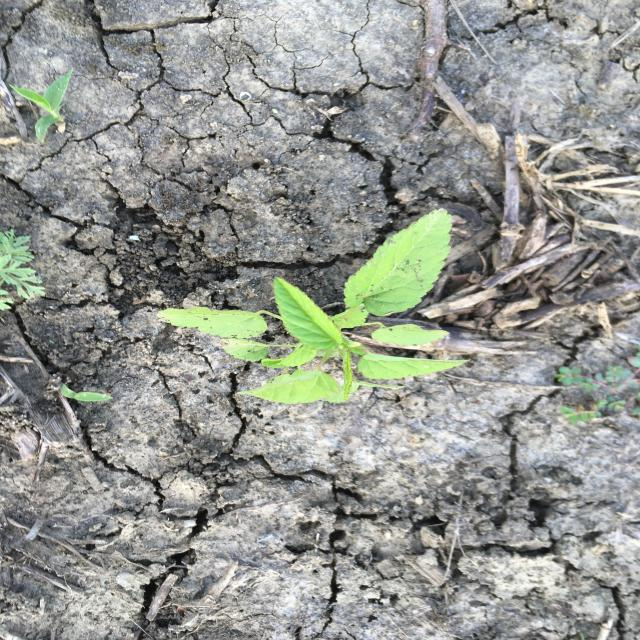PricklySida: (154, 207, 473, 406)
Ragweed: (1, 228, 47, 312)
SpottedSpurge: (551, 355, 638, 427)
